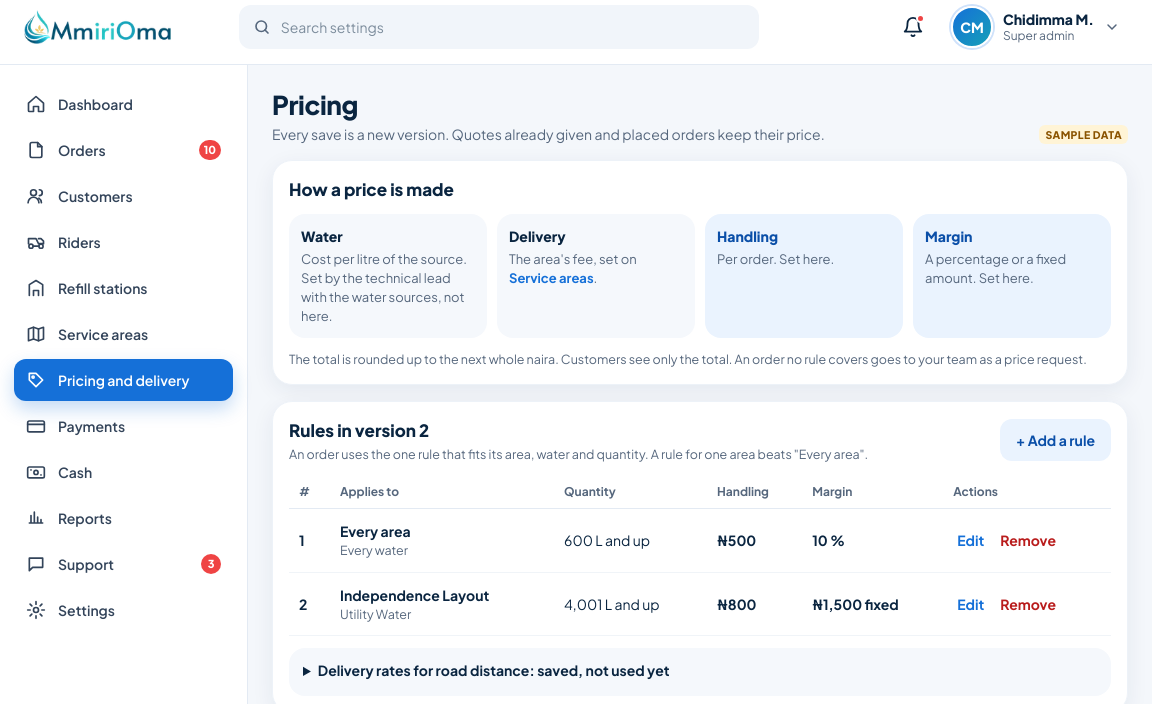
Pricing screen › shows the current rules and history, and saves an edited rule as the next version
Expected: the heading "Rules in version 2" is shown, [289,419,429,441]
Expected: the heading "How a price is made" is shown, [289,178,454,200]
Click the button with aria-label "Edit rule 1".
click(971, 540)  # box [949,530,992,550]
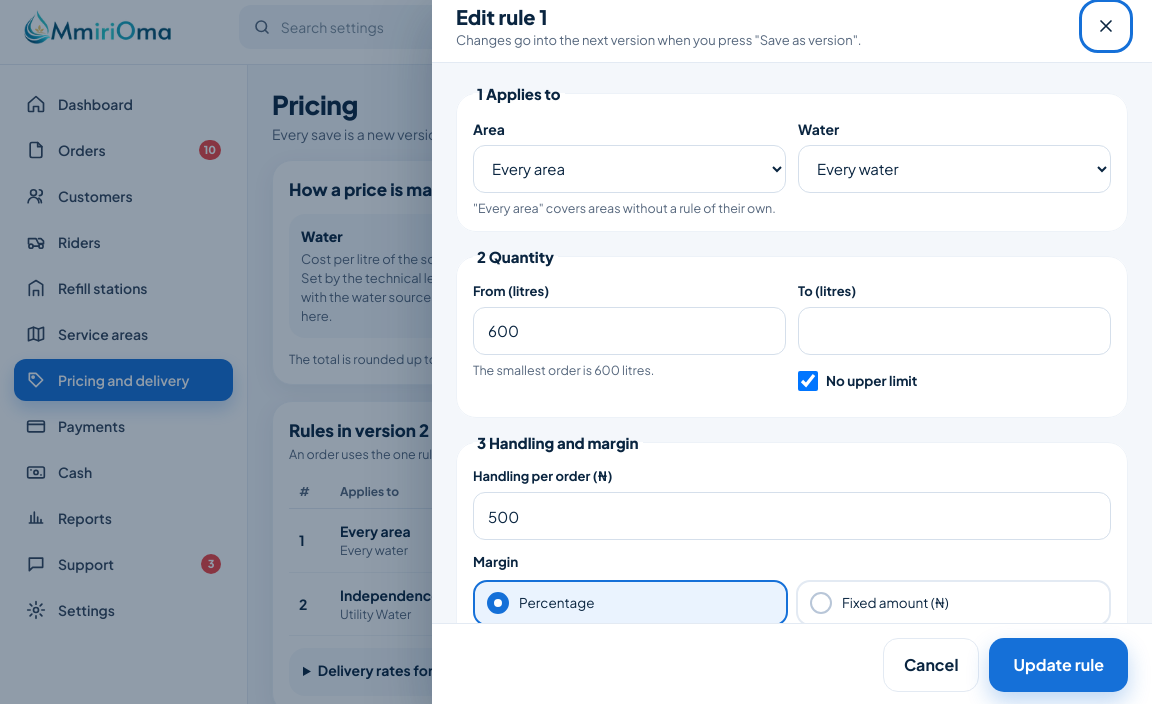
Replace the text in the field labelled "Handling per order (₦)" with "600" at [792, 516], box [473,492,1111,540]
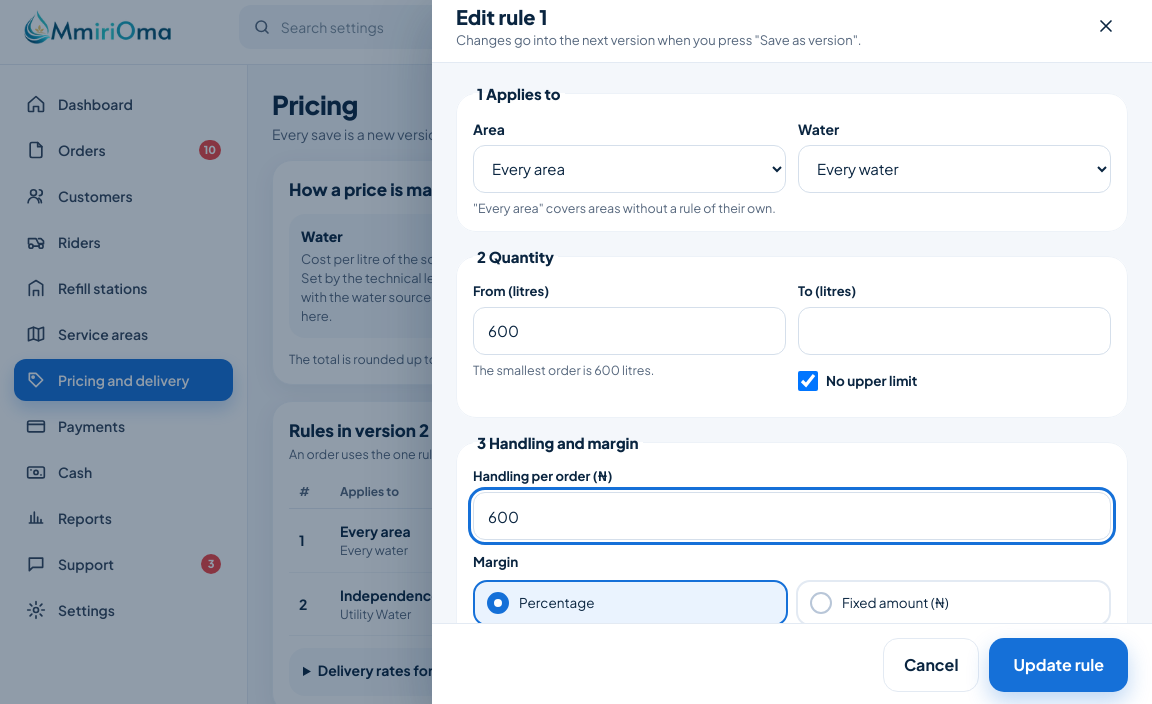
Click the button "Update rule".
click(1059, 665)  # box [989,638,1128,692]
(page scrolled)
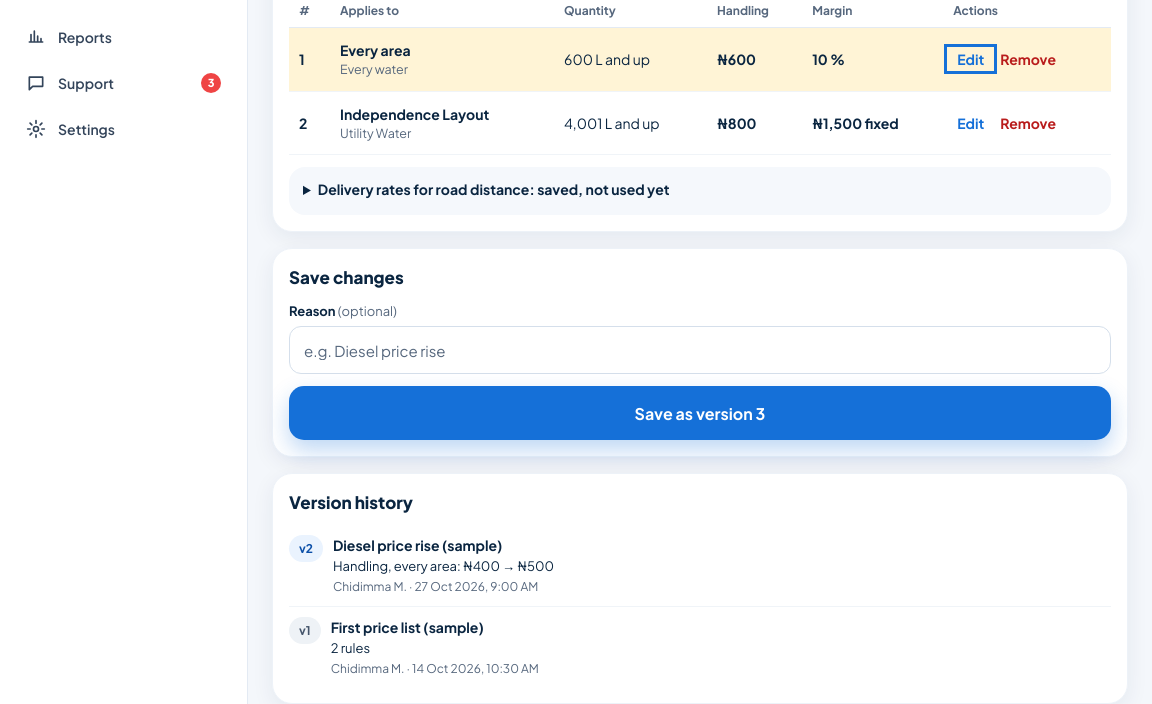
Type "Diesel price rise" into the field labelled "Reason (optional)".
click(700, 350); type("Diesel price rise")  # box [289,326,1111,374]
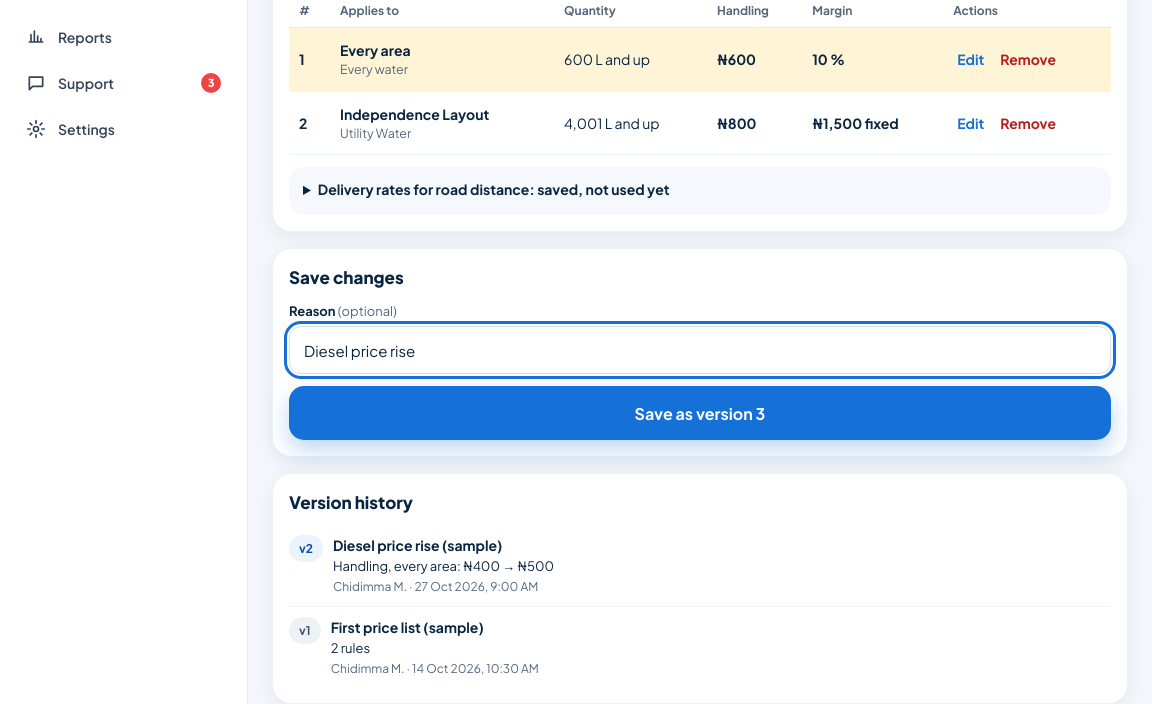
Click the button "Save as version 3".
click(700, 413)  # box [289,386,1111,440]
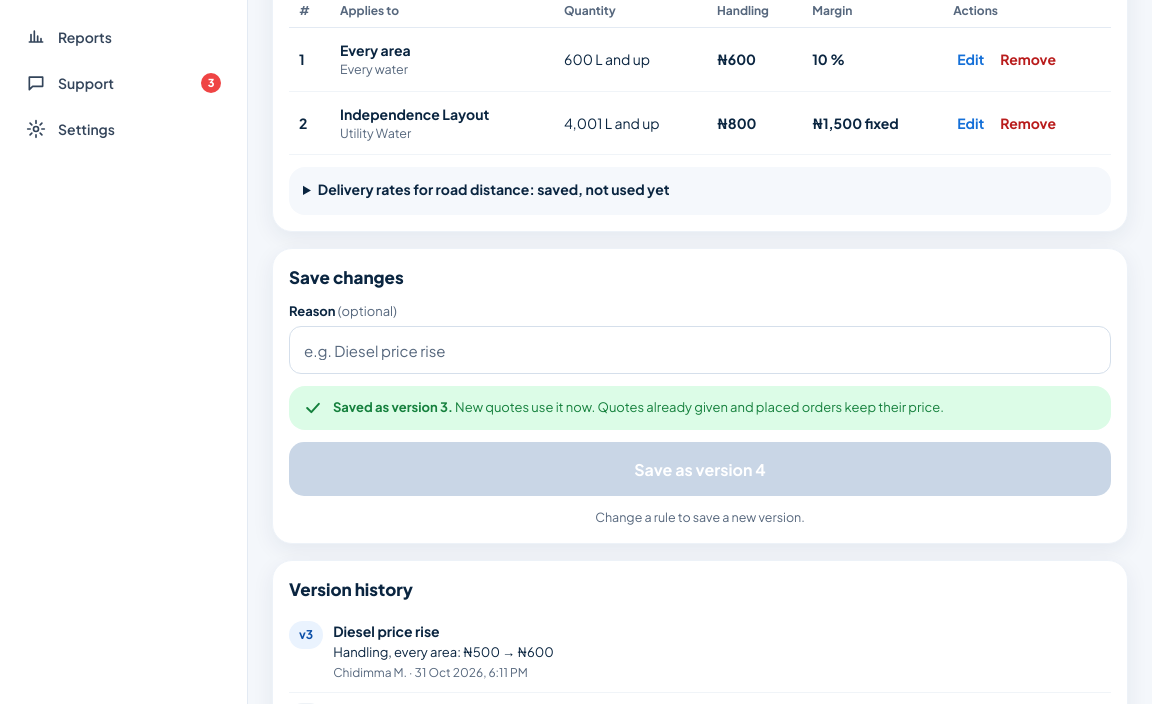
Expected: the text "Saved as version 3." is shown, [333,399,453,415]
Expected: the text "Handling, every area: ₦500 → ₦600" is shown, [333,644,554,662]
